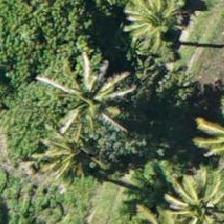coconut_tree: (17, 101, 107, 191), (152, 163, 223, 223)
